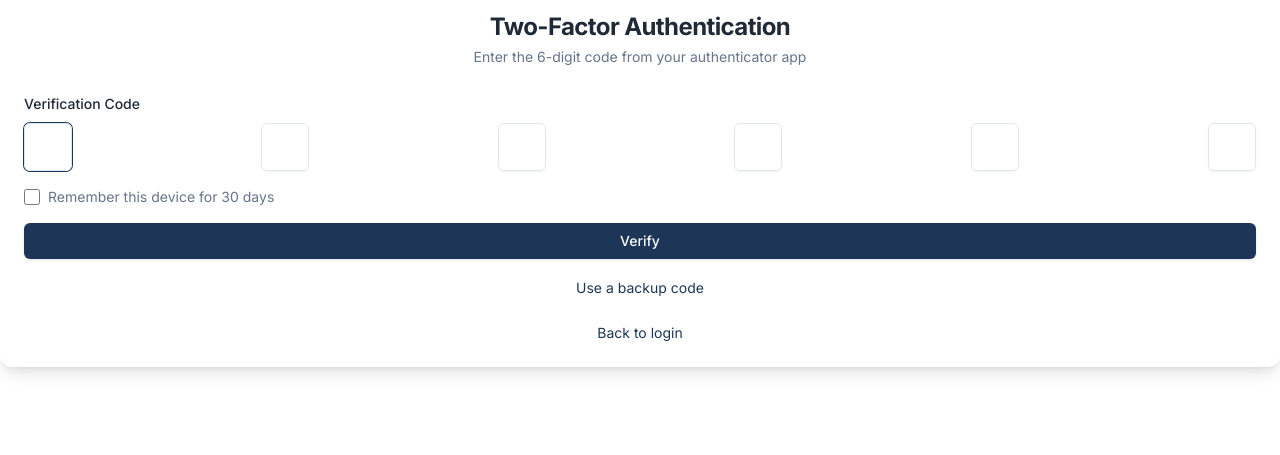
Test: VerifyMfaPage › should show error for incomplete TOTP code
The image size is (1280, 455).
Type "1" into the field named "Digit 1". click: (48, 147)
box: x1=24 y1=123 x2=72 y2=171
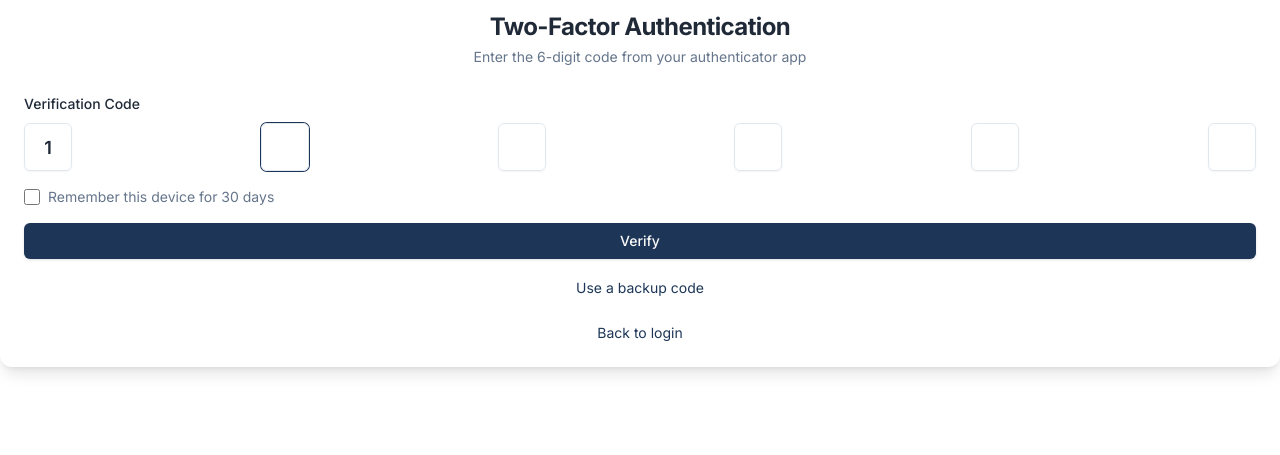
Type "2" into the field named "Digit 2". click: (285, 147)
box: x1=261 y1=123 x2=309 y2=171
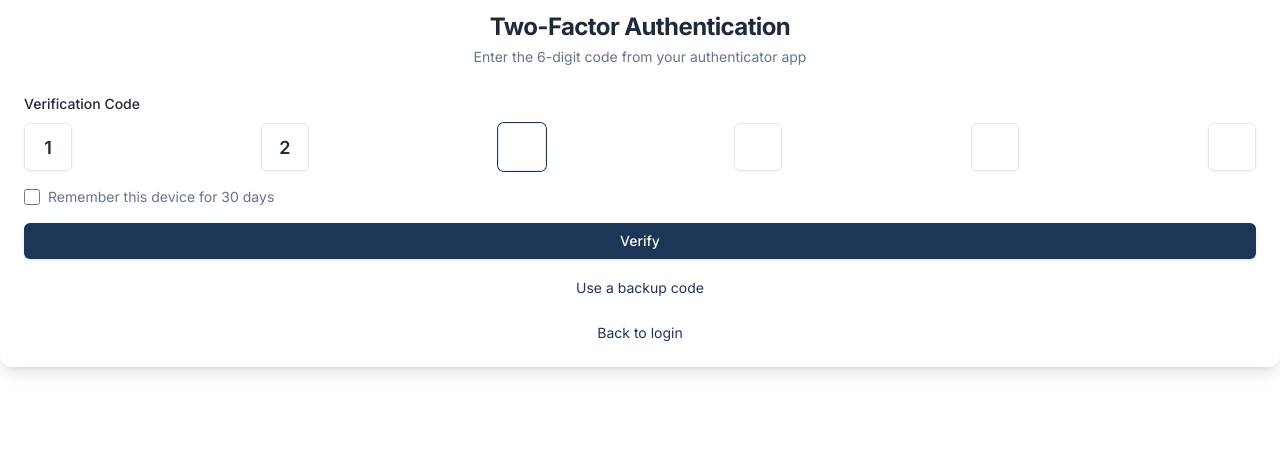
Click the button "Verify". click: (640, 241)
box: x1=24 y1=223 x2=1256 y2=259
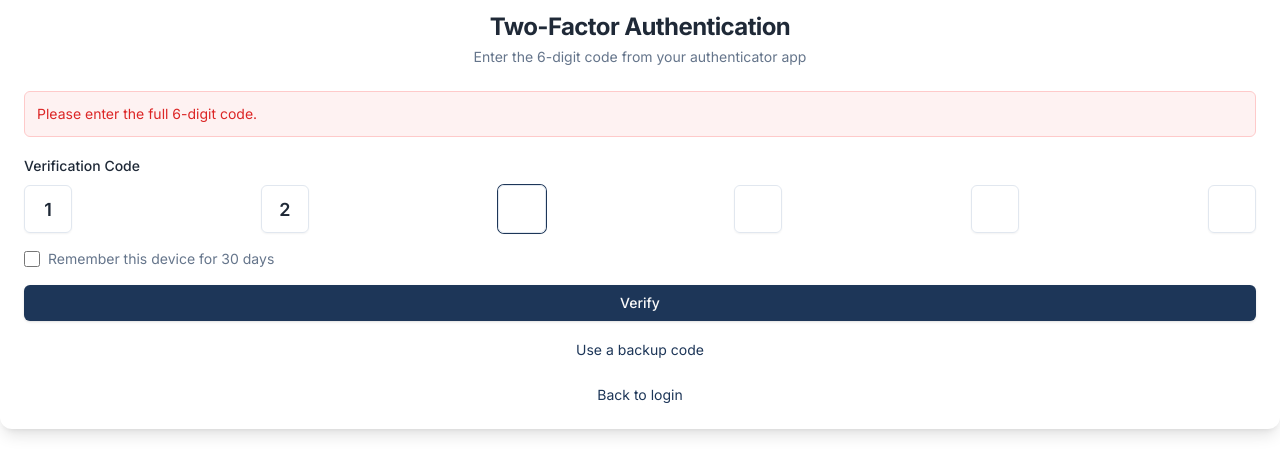
Now the text "Please enter the full 6-digit code." is shown, box x1=24 y1=91 x2=1256 y2=137
